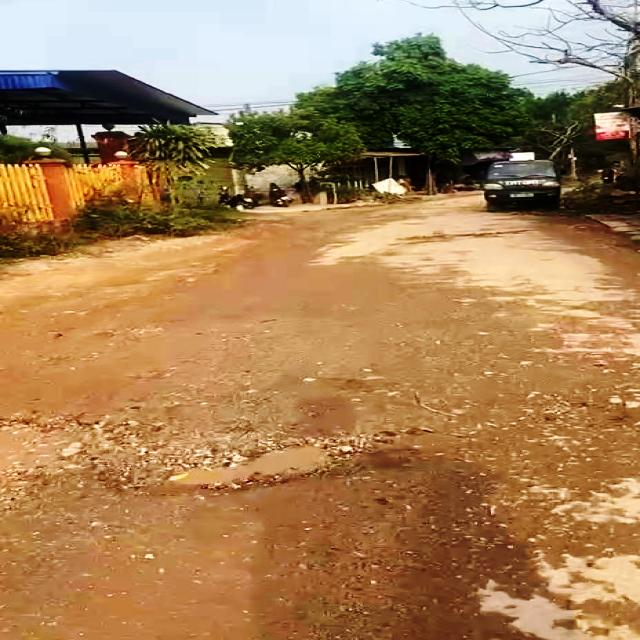pothole: (146, 432, 381, 492), (130, 411, 134, 412)
